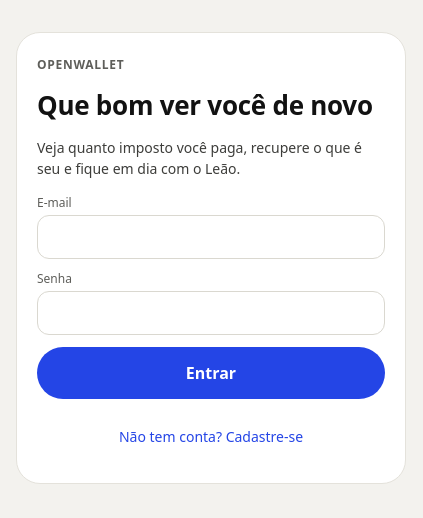
it: AuthScreen › mostra a mensagem do servidor quando o login falha
This screenshot has width=423, height=518.
Type "a@b.com" into the field labelled "E-mail".
click(211, 237); type("a@b.com")  # box [37,215,385,259]
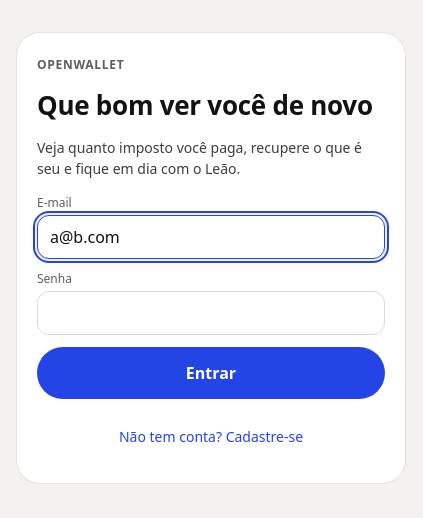
Type "errada" into the password field labelled "Senha".
click(211, 313); type("errada")  # box [37,291,385,335]
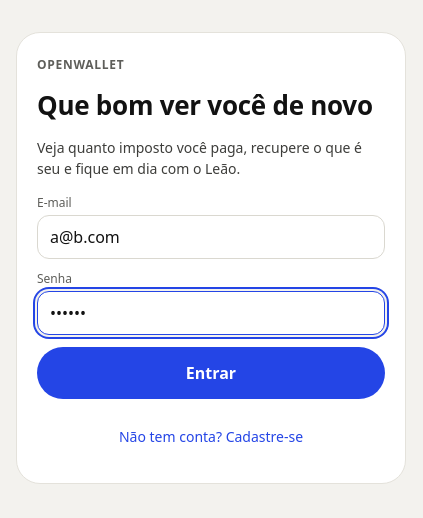
Click the button "Entrar".
click(211, 373)  # box [37,347,385,399]
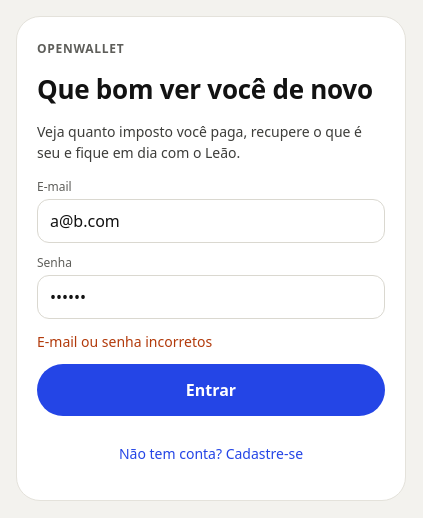
Expected: the button "Entrar" is enabled, [37,364,385,416]
Now the text "E-mail ou senha incorretos" is shown, box [37,332,212,350]
